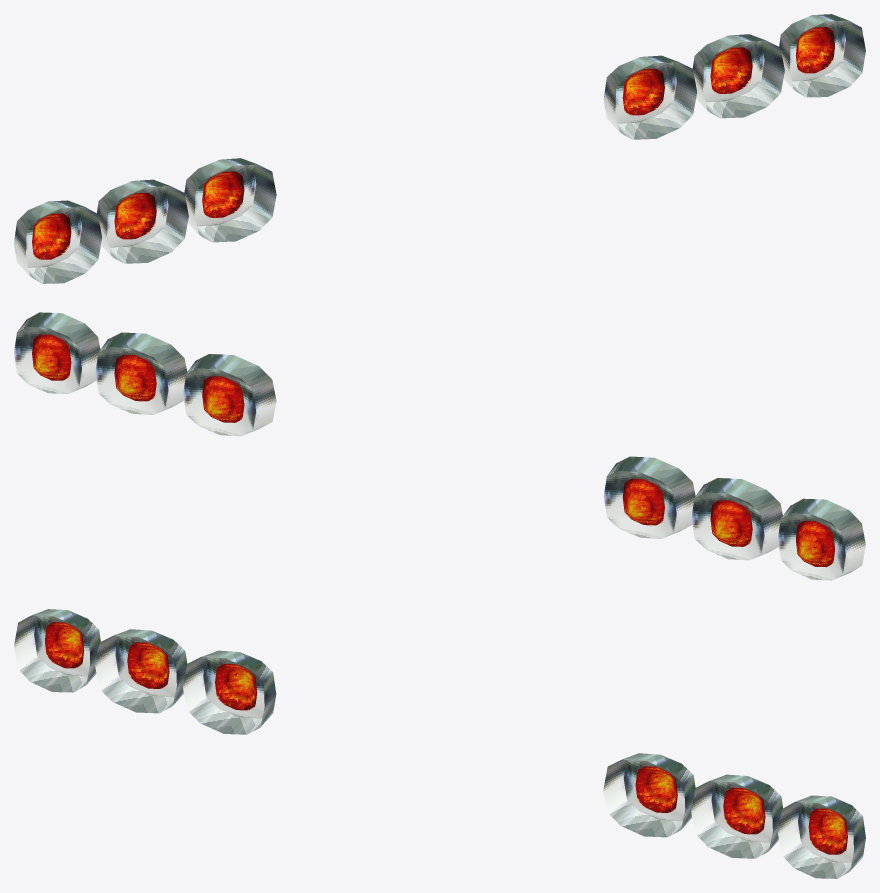
The model's file is unused-15.glb.
3 views of the same model, one above another, from view 1: azimuth 30°, elevation 25°; view 2: azimuth 150°, elevation 25°; view 3: azimuth 330°, elevation 25° (orthographic).
Visible parts, largest first — view 1: model; view 2: model; view 3: model.
Boxes of the visible parts, box(x1,y1,x2,y2) form: model: box(14, 14, 865, 283); model: box(14, 312, 865, 580); model: box(14, 609, 865, 878).
Bounding box in the file's own units: 15.66 × 1.32 × 0.882.
Materials: 3 (3 with a texture image).
